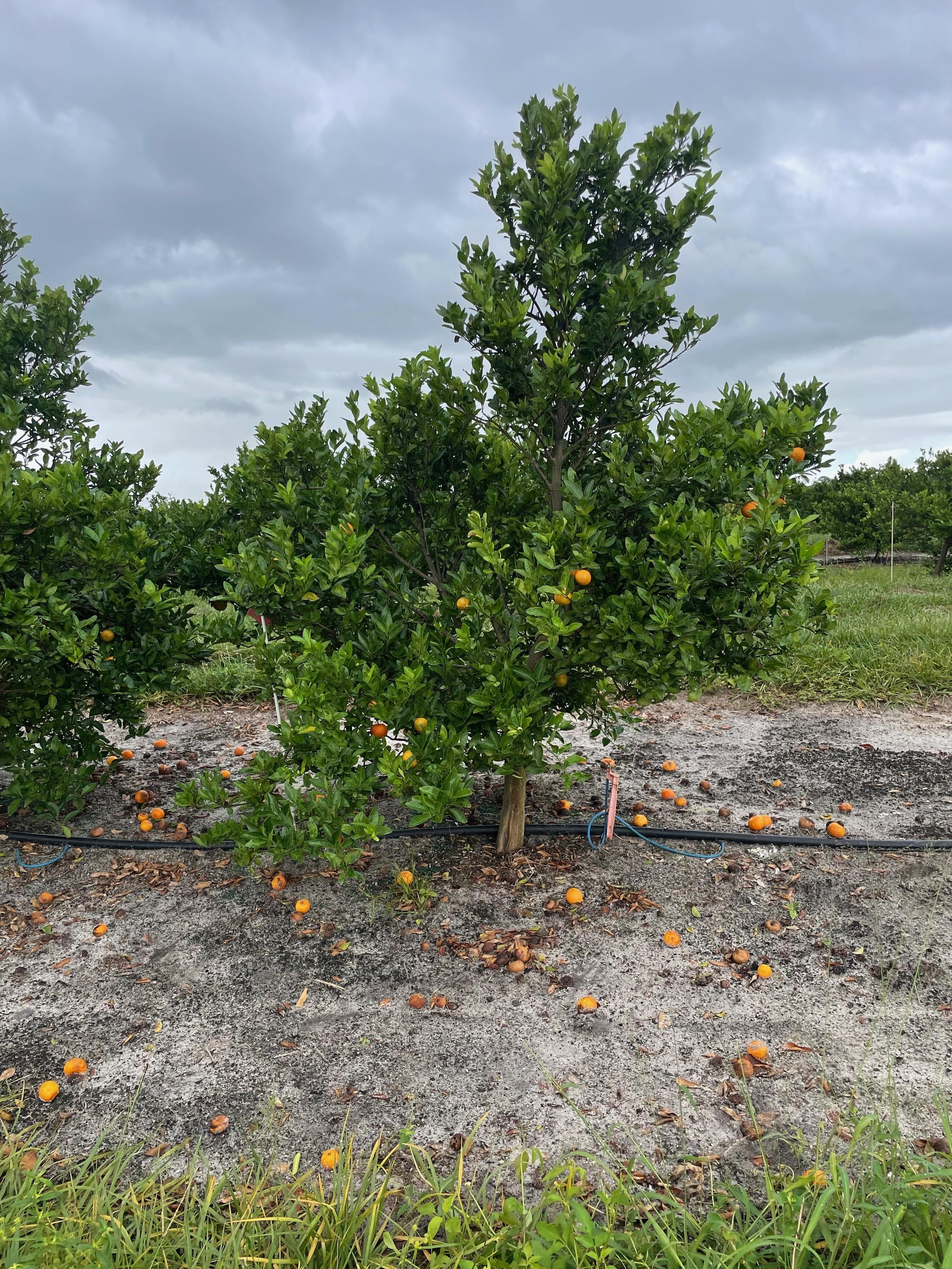fruit_on_ground: (740, 498, 762, 520), (552, 586, 574, 607), (400, 748, 421, 768), (550, 669, 569, 689), (336, 520, 355, 538), (369, 722, 388, 740), (211, 595, 229, 613), (788, 445, 806, 463), (574, 568, 592, 586), (411, 716, 430, 733), (562, 563, 581, 579), (455, 594, 471, 611), (100, 628, 116, 642)
fruit_on_tree: (801, 1166, 830, 1192), (62, 1054, 90, 1079), (318, 1147, 343, 1171), (36, 1078, 61, 1102), (730, 1056, 756, 1079), (747, 1038, 769, 1060), (575, 993, 599, 1013), (564, 885, 585, 905), (662, 928, 682, 948), (268, 872, 289, 891), (730, 946, 752, 964), (395, 868, 414, 887), (408, 991, 427, 1010), (763, 918, 784, 935), (292, 896, 311, 914), (747, 813, 766, 831), (826, 820, 846, 837), (756, 961, 774, 979), (134, 788, 154, 804), (631, 811, 649, 828), (506, 958, 525, 974), (555, 796, 572, 813), (754, 813, 773, 828), (150, 805, 166, 821), (37, 890, 54, 904), (661, 758, 678, 772), (600, 755, 616, 769), (175, 820, 190, 834), (93, 921, 108, 935), (798, 815, 813, 829), (89, 825, 105, 838), (154, 818, 169, 831), (139, 819, 154, 832), (157, 762, 172, 775), (660, 786, 675, 799), (152, 737, 168, 749), (632, 800, 646, 813), (219, 767, 233, 780), (716, 806, 731, 818), (673, 795, 688, 807), (136, 810, 149, 823), (698, 778, 711, 791), (175, 757, 188, 769), (233, 745, 246, 757), (121, 748, 134, 760), (839, 800, 853, 811), (105, 754, 117, 765), (771, 778, 783, 788)
